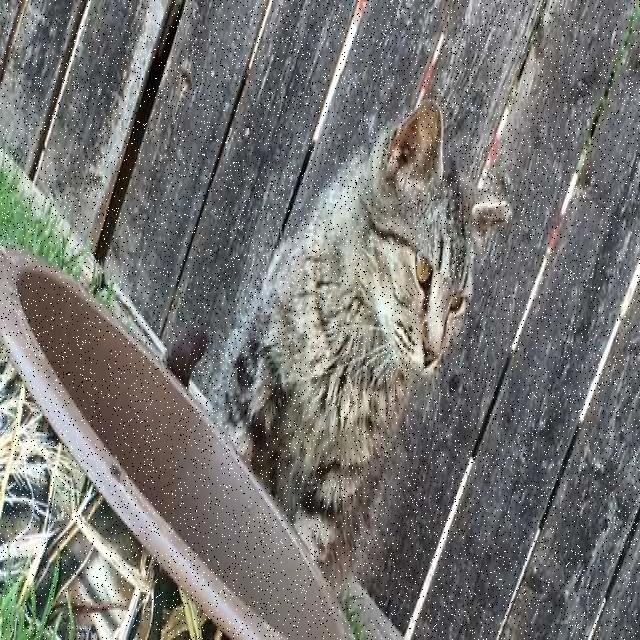cat: (216, 100, 511, 592)
